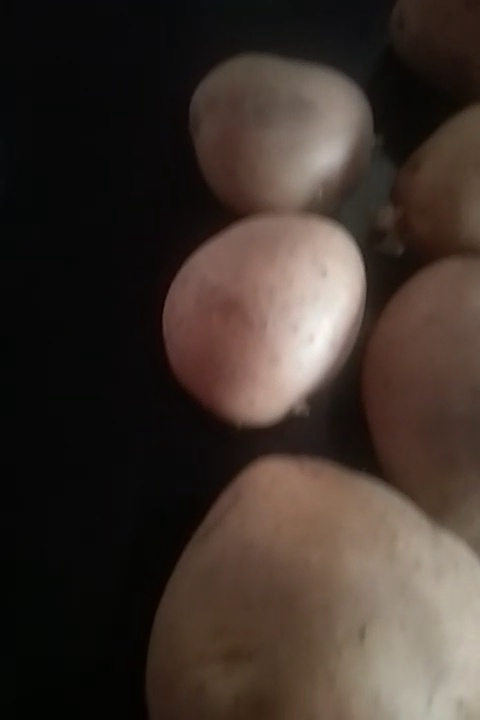potato: (159, 442, 480, 720), (149, 213, 369, 422), (354, 275, 480, 516), (186, 72, 366, 216), (401, 108, 480, 257)
